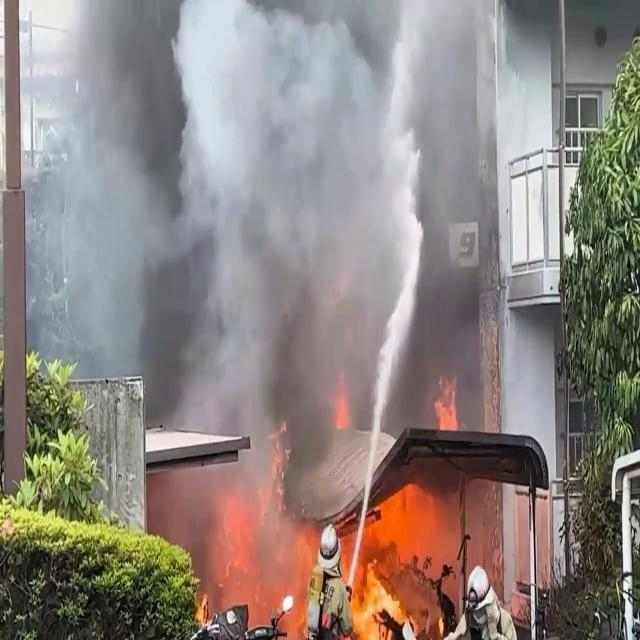Smoke: (29, 1, 524, 436)
